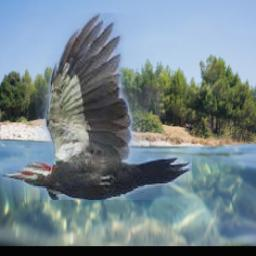Woodpecker: (0, 13, 191, 200)
